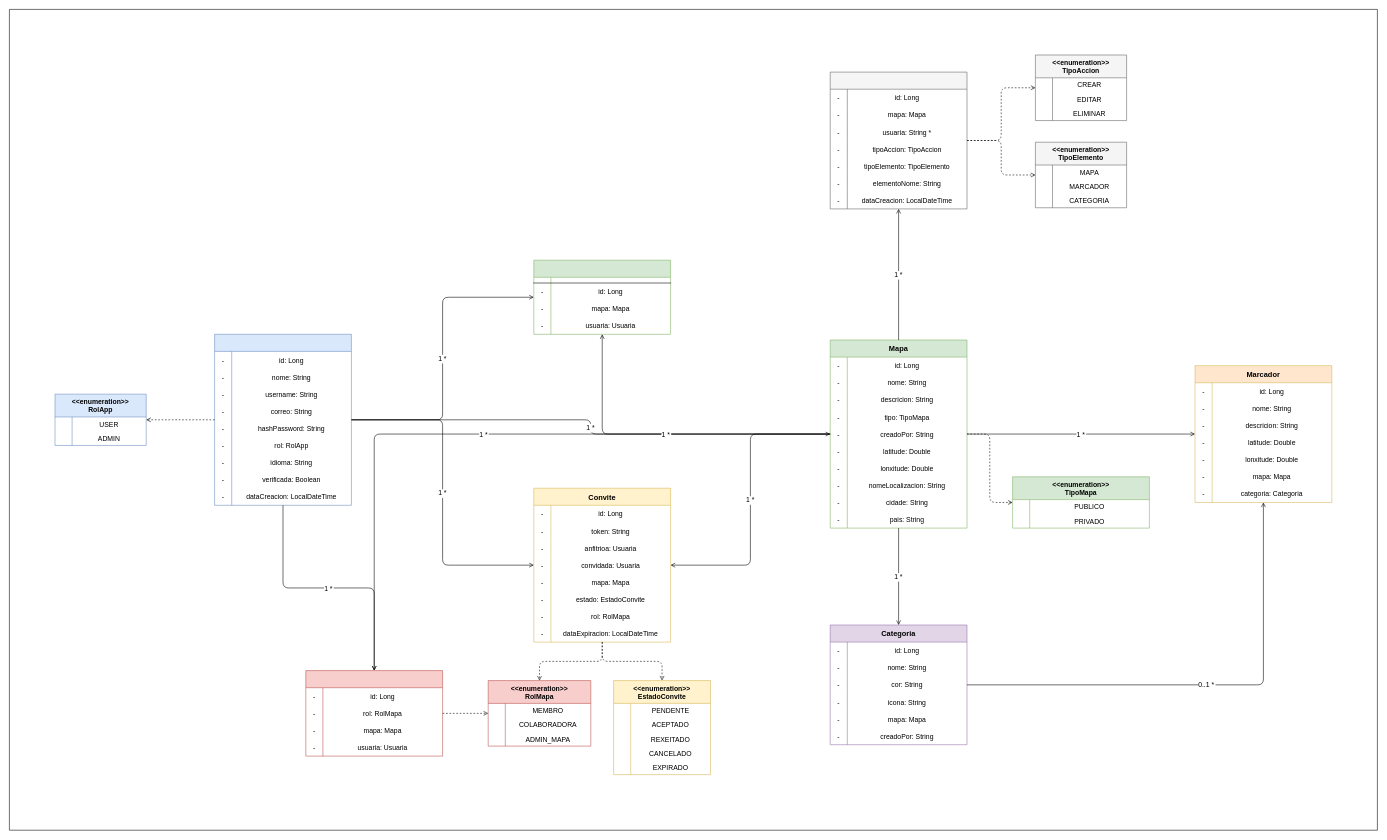
The diagram is 1387 pixels wide and 840 high, and some of its shapes have lost their labels. The shapes that lost their labels are listed below. From the top down, each one's box as (x1, y1, x2, y2) in pixels, then its label:
(830, 72, 967, 209): EntradaHistorial
(533, 260, 671, 334): MapaGardado
(214, 334, 351, 505): Usuaria
(305, 670, 443, 756): MapaMembro
